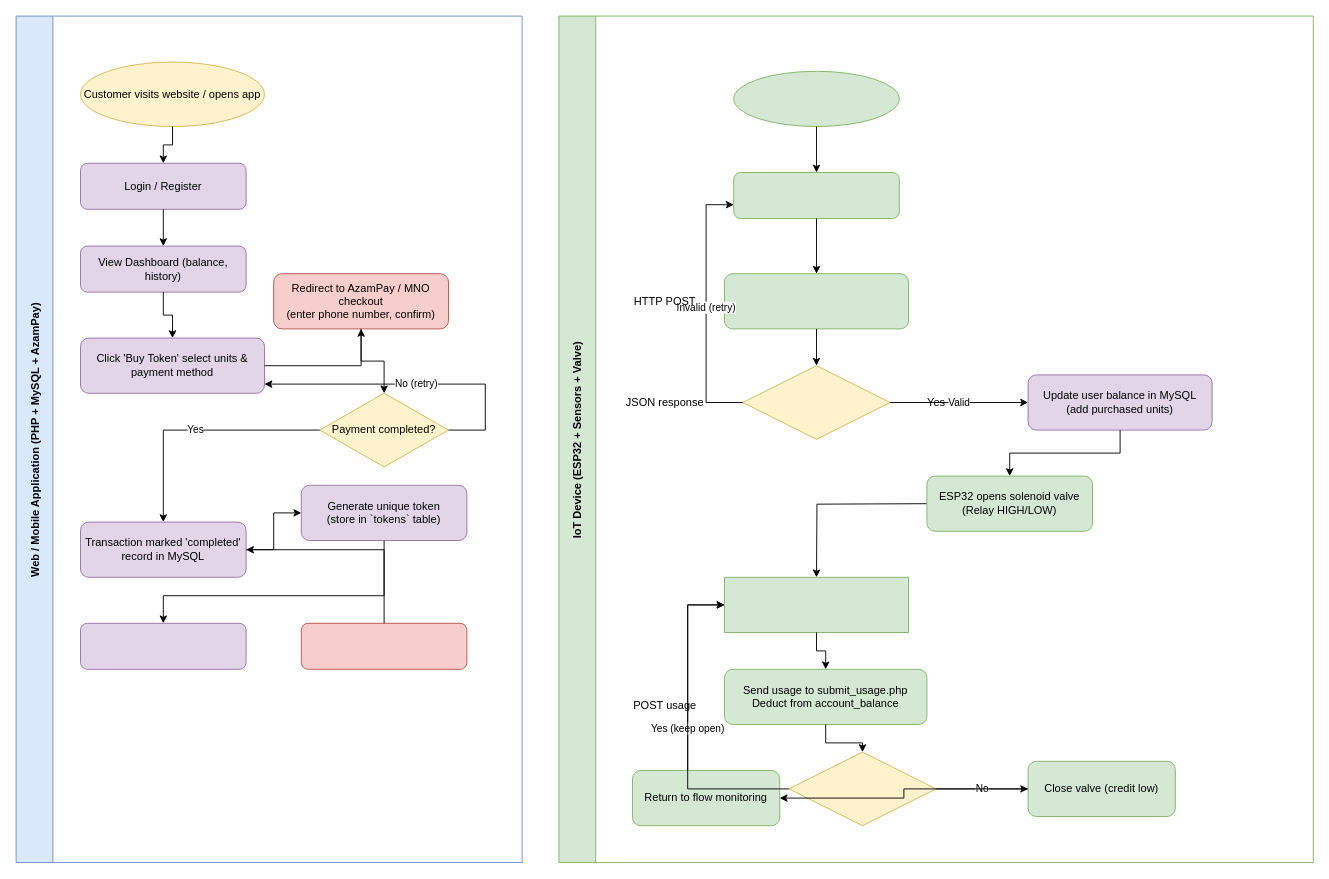
Some shapes in this 1329 by 879 pixel diagram are drawn without their labels. The centre of each missing label's shape, as x and y in pixels:
API returns valid / invalid: pixel 816 402
AzamPay webhook callback (updates transaction): pixel 383 645
Balance > 0 ?: pixel 862 788
Customer types token on 4x4 keypad: pixel 816 195
Display token on screen / SMS: pixel 163 645
ESP32 powered on LCD shows 'Enter token': pixel 816 98
ESP32 sends token + meter_id to validate_token.php: pixel 816 301
Water flows → YF‑S201 pulses ESP32 counts pulses: pixel 816 604
